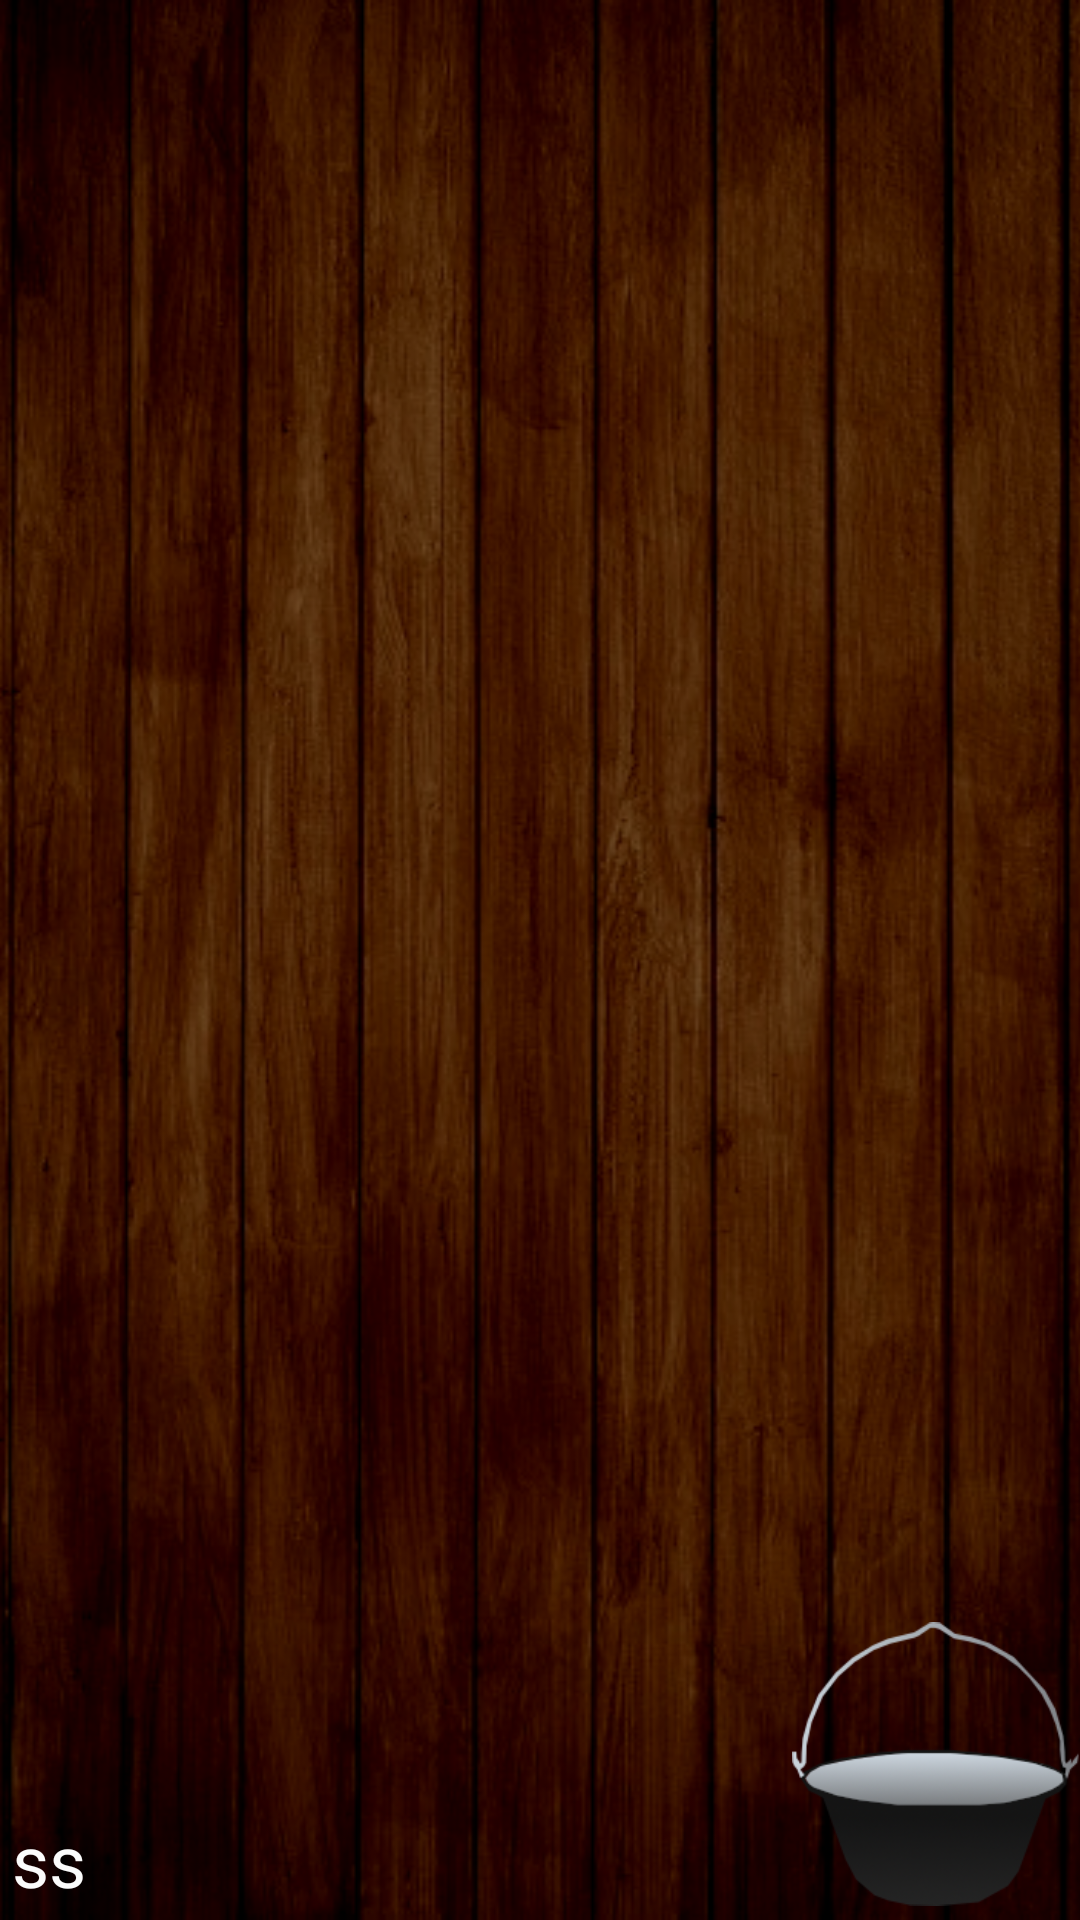

Named icons in this screenshot (1080w x 1920h) and their bounding boxes, (x1, y1, x2, y2):
kotlik: (792, 1620, 1080, 1908)
